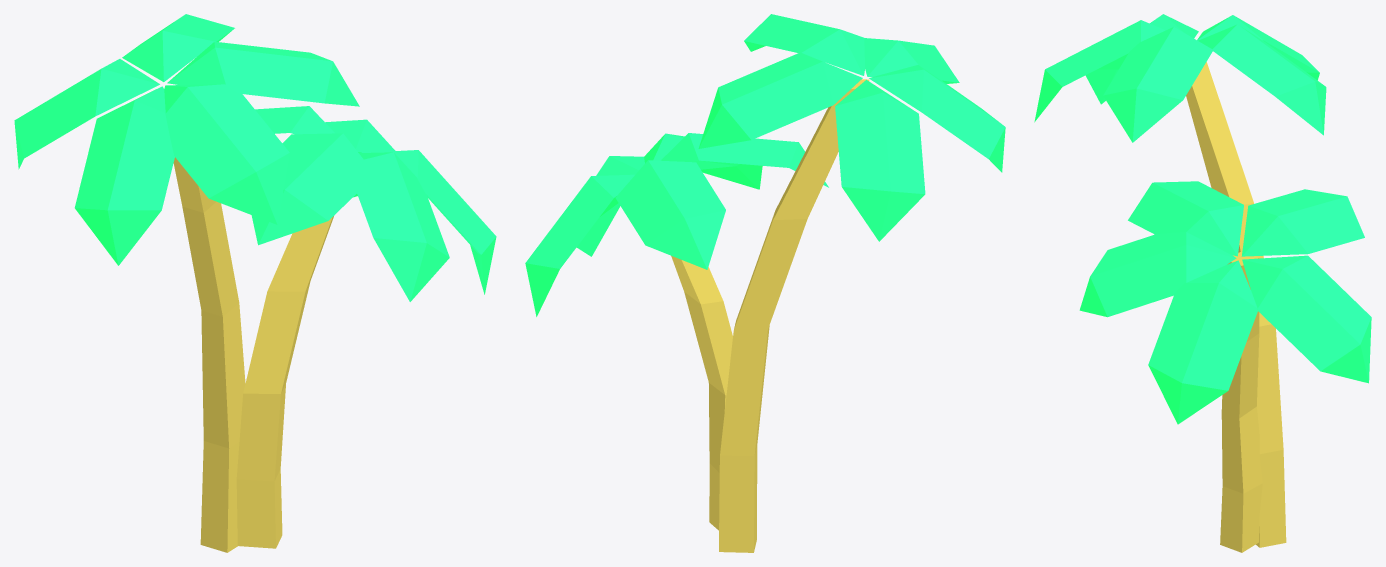
The model's file is tree02.fbx.
3 views of the same model, side by side, from view 1: azimuth 30°, elevation 25°; view 2: azimuth 150°, elevation 25°; view 3: azimuth 270°, elevation 25° (orthographic). The views are drawn at different scales.
Visible parts, largest first — view 1: beach_tree02, beach_tree02.001; view 2: beach_tree02, beach_tree02.001; view 3: beach_tree02, beach_tree02.001.
Boxes of the visible parts, <box> form: beach_tree02: <box>14,14,496,301</box>; beach_tree02.001: <box>173,157,333,552</box>; beach_tree02: <box>525,14,1005,316</box>; beach_tree02.001: <box>671,79,869,552</box>; beach_tree02: <box>1034,14,1371,424</box>; beach_tree02.001: <box>1186,62,1286,552</box>.
Bounding box in the file's own units: 4.77 × 5.7 × 3.59.
